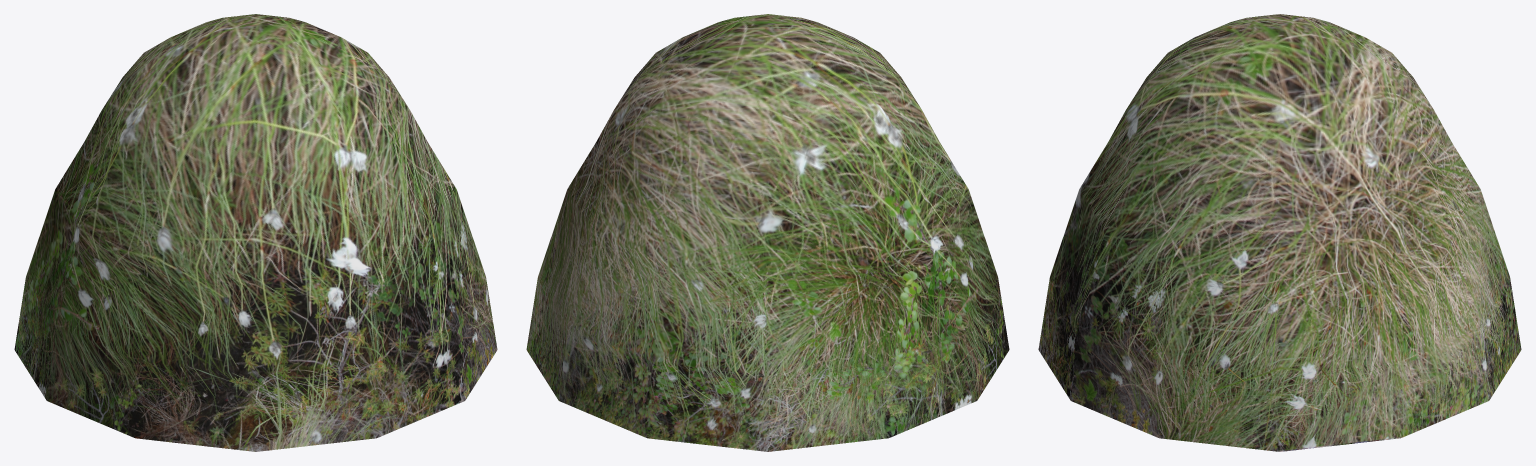
The model's file is Tusseks01.fbx.
3 views of the same model, side by side, from view 1: azimuth 30°, elevation 25°; view 2: azimuth 150°, elevation 25°; view 3: azimuth 270°, elevation 25° (orthographic).
Parts seen in each view (by area): view 1: Sphere.001; view 2: Sphere.001; view 3: Sphere.001.
Part boxes in pixels (x1,y1,x2,y2): Sphere.001: (14,14,497,451); Sphere.001: (526,14,1009,451); Sphere.001: (1038,14,1521,451).
Size of the model in its own units: 13.8 by 10.2 by 13.8.
